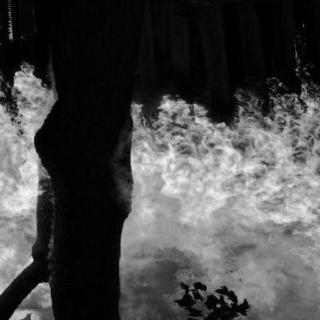Fire: (123, 101, 320, 290)
